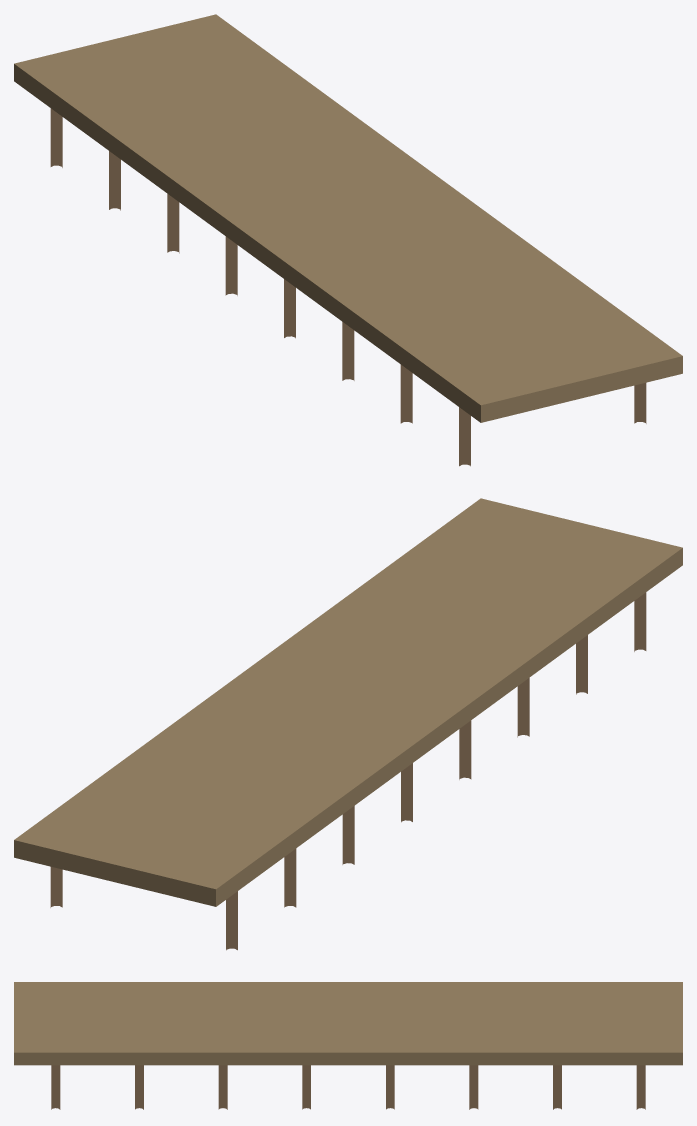
File: i_pier.glb
3 renders of one model, top to bottom at view 1: azimuth 30°, elevation 25°; view 2: azimuth 150°, elevation 25°; view 3: azimuth 270°, elevation 25°, orthographic. The views are drawn at different scales.
Visible parts, largest first — view 1: body; view 2: body; view 3: body.
Part boxes in pixels (bbox=[...]): body: bbox=[14, 14, 682, 466]; body: bbox=[14, 498, 682, 950]; body: bbox=[14, 982, 682, 1109].
Bounding box in the file's own units: 6 × 2.45 × 24.
